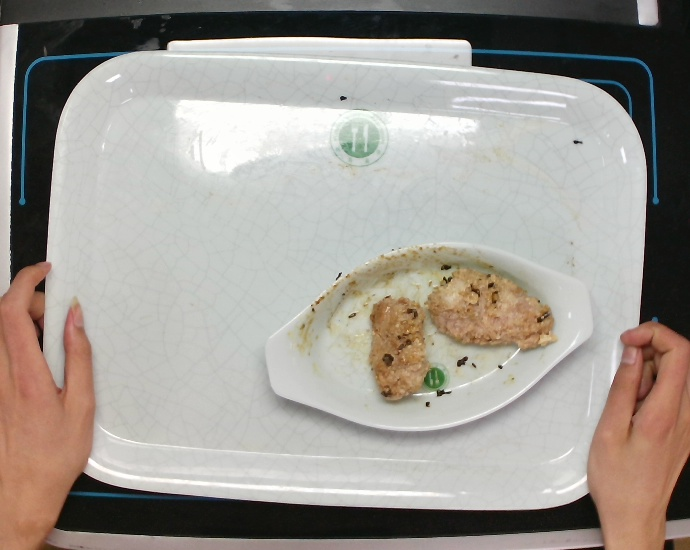JYsf-Yu_Pan: (258, 230, 602, 439)
